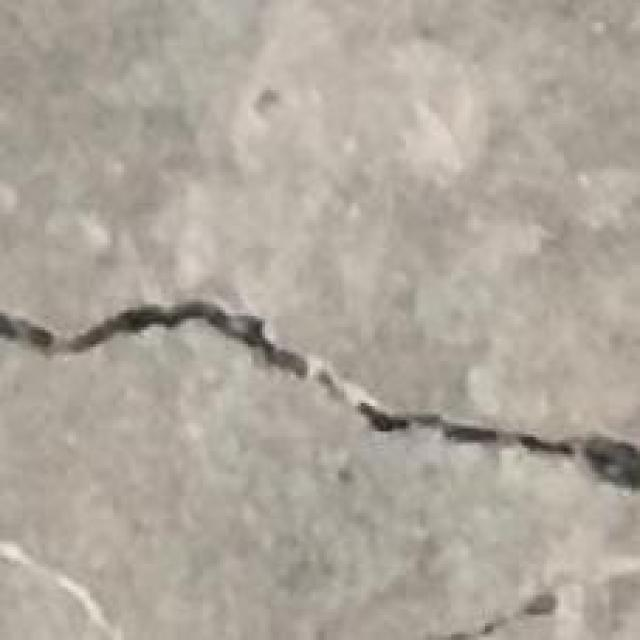Crack: (3, 293, 640, 485)
